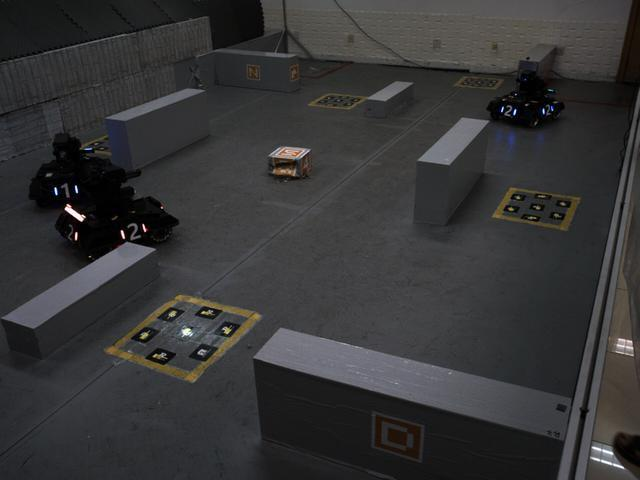armor: (115, 218, 151, 247), (48, 177, 85, 204), (60, 220, 82, 247), (497, 100, 517, 123), (536, 100, 555, 121)
